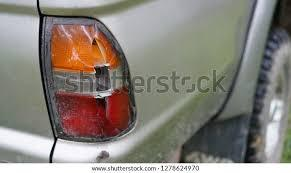Taillight-Damage: (38, 10, 143, 159)
